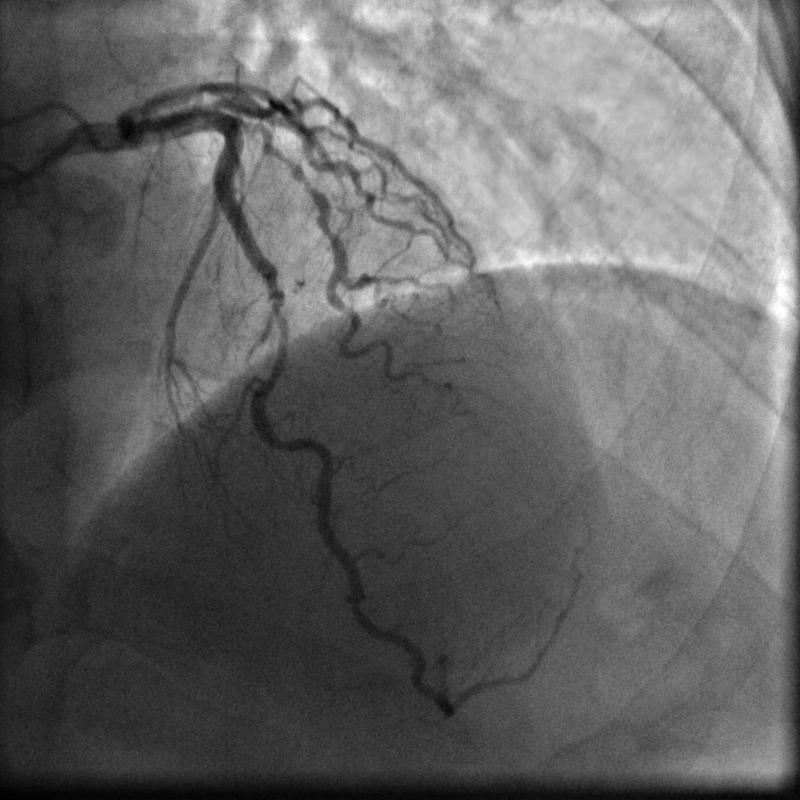Stenosis: (261, 279, 290, 377)
